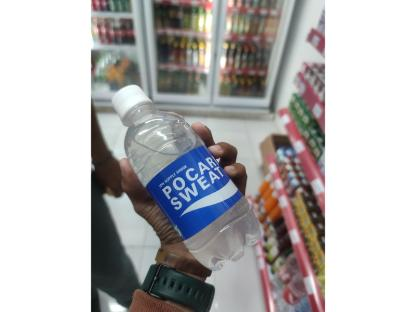Plastic Bottle: (111, 84, 261, 272)
